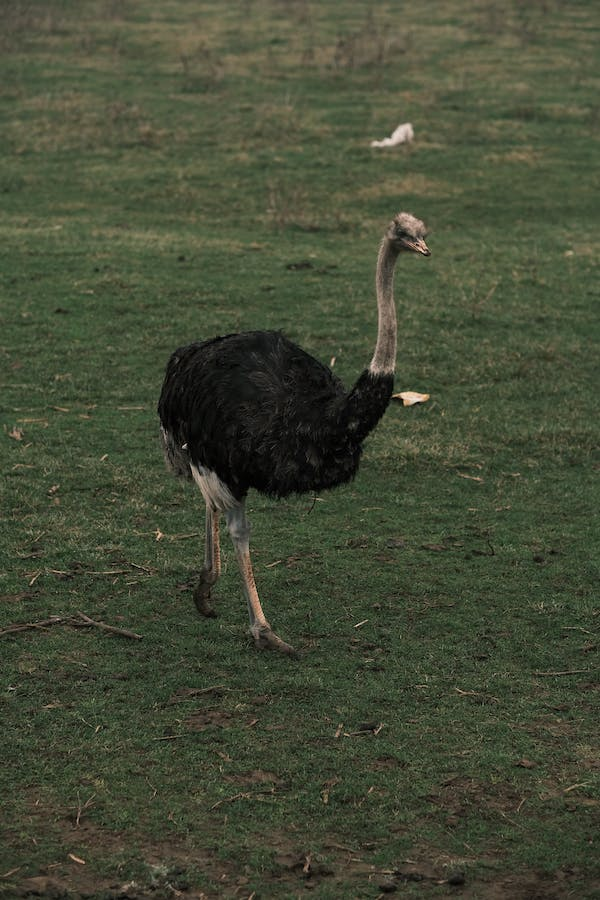Walking: (134, 183, 495, 661)
